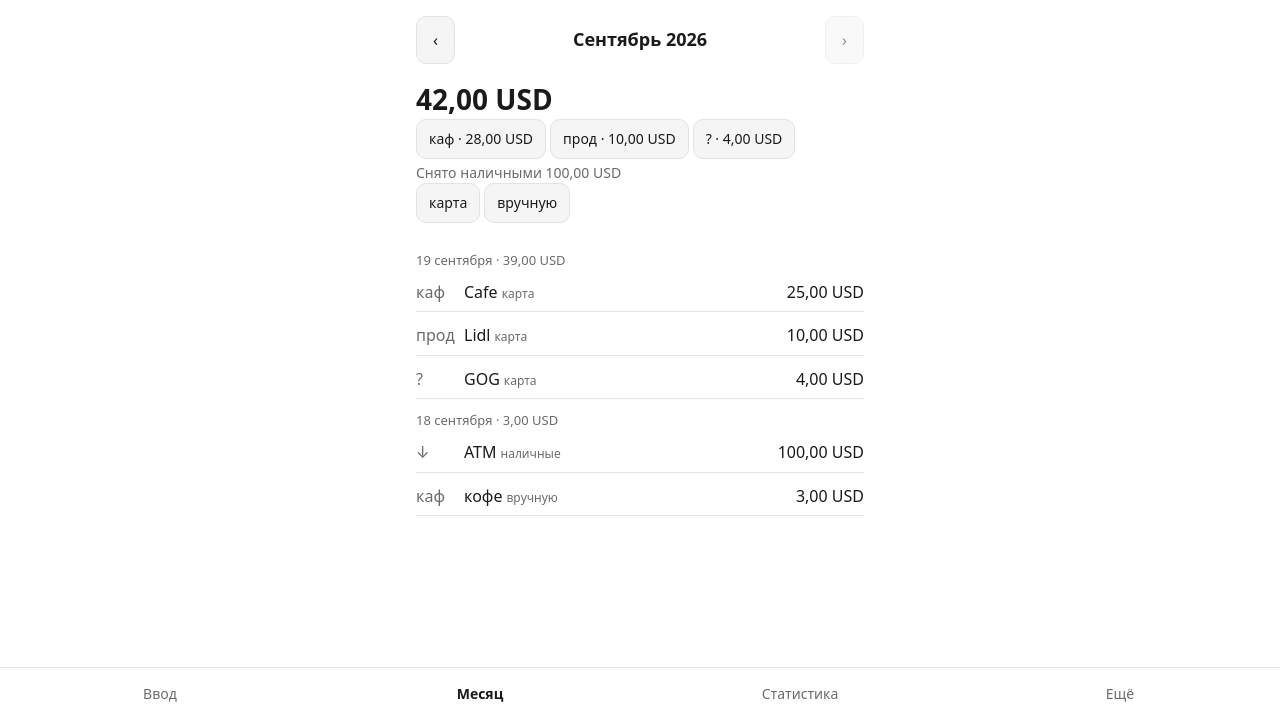
Test: MonthScreen › тап по категории фильтрует список, повторный снимает
What coordinates should you click on to do the following:
click the button "каф · 28,00 USD"
I would click on:
 (481, 139)
Its box is [416,119,546,159].
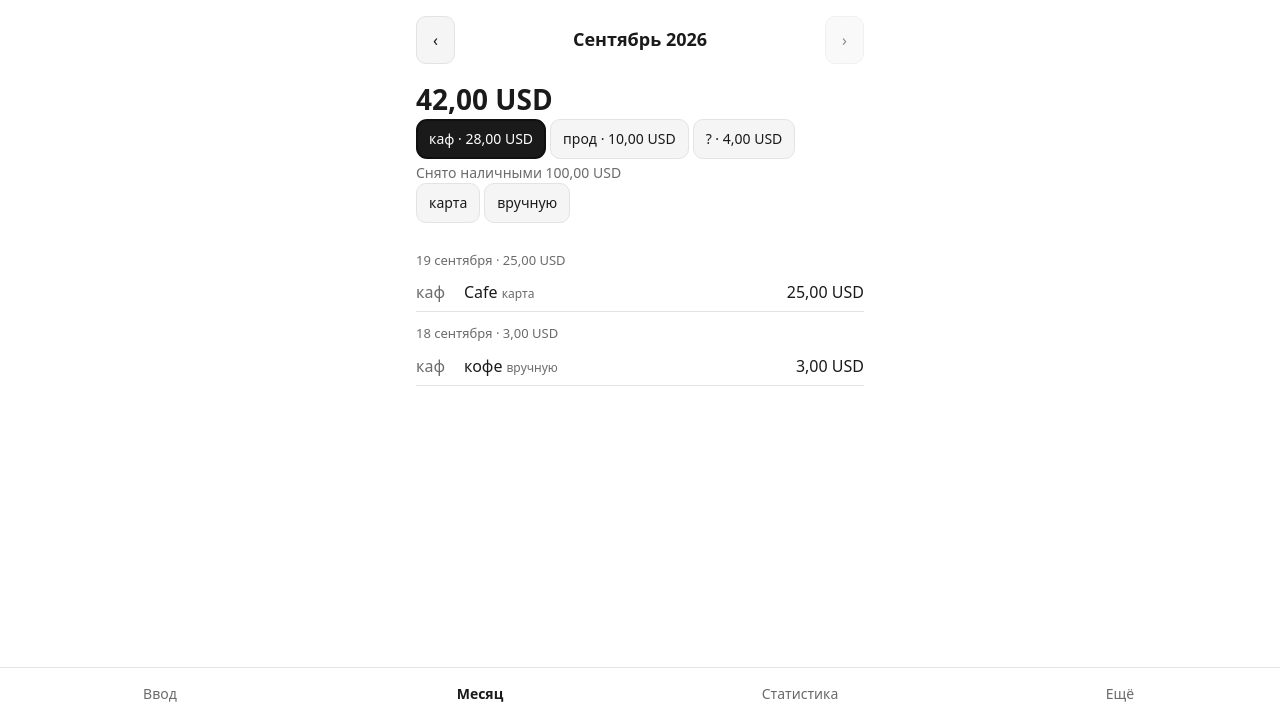
Expected: the text "Cafe" is shown, [464,281,498,303]
Now the button "Lidl" is gone
What coordinates should you click on to do the following:
click the button "каф · 28,00 USD"
I would click on:
 (481, 139)
Its box is [416,119,546,159].
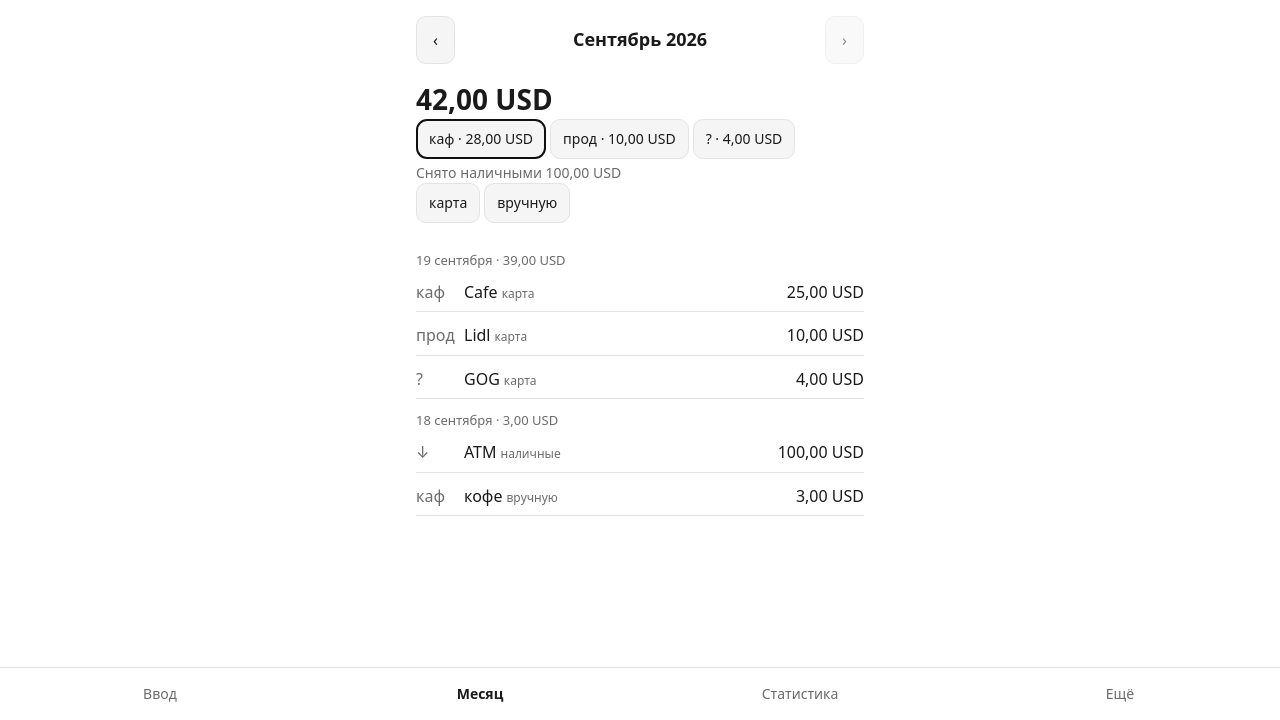
Now the text "Lidl" is shown, box [464,324,490,346]
